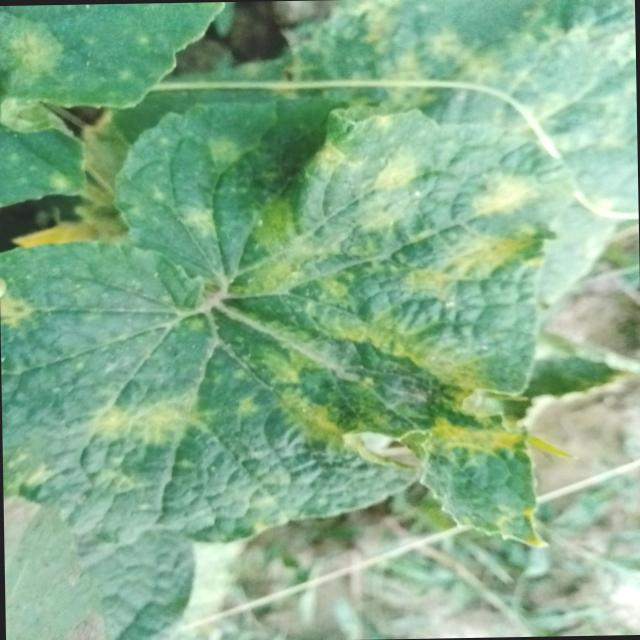cucumber_downy: (0, 87, 552, 569)
